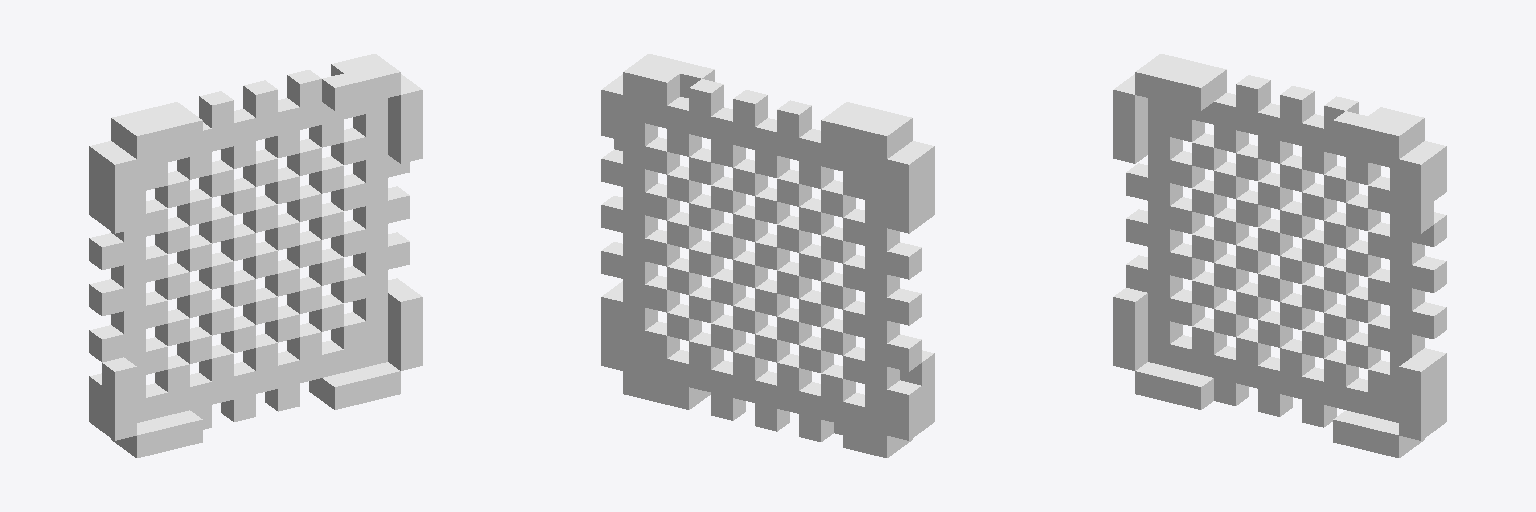
Rendered from grate_zm.obj.
3 views of the same model, side by side, from view 1: azimuth 30°, elevation 25°; view 2: azimuth 150°, elevation 25°; view 3: azimuth 330°, elevation 25° (orthographic).
Bounding box in the file's own units: 14 × 14 × 2.